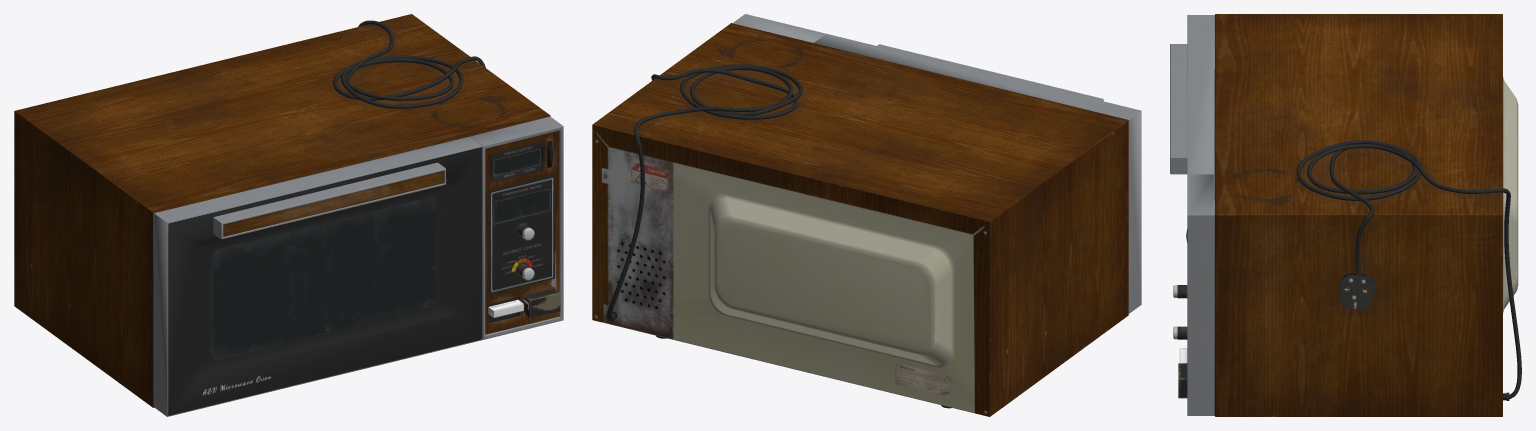
Rendered from vintage_microwave.glb.
3 renders of one model, left to right at view 1: azimuth 30°, elevation 25°; view 2: azimuth 150°, elevation 25°; view 3: azimuth 270°, elevation 25°, orthographic. The views are drawn at different scales.
Parts seen in each view (by area): view 1: vintage_microwave; view 2: vintage_microwave; view 3: vintage_microwave.
Part boxes in pixels (left/top/right/bottom): vintage_microwave: left=14, top=14, right=563, bottom=416; vintage_microwave: left=592, top=14, right=1141, bottom=416; vintage_microwave: left=1170, top=14, right=1521, bottom=416.
Size of the model in its own units: 1.07 by 0.5258 by 0.7456.
2 materials, 2 textured.
